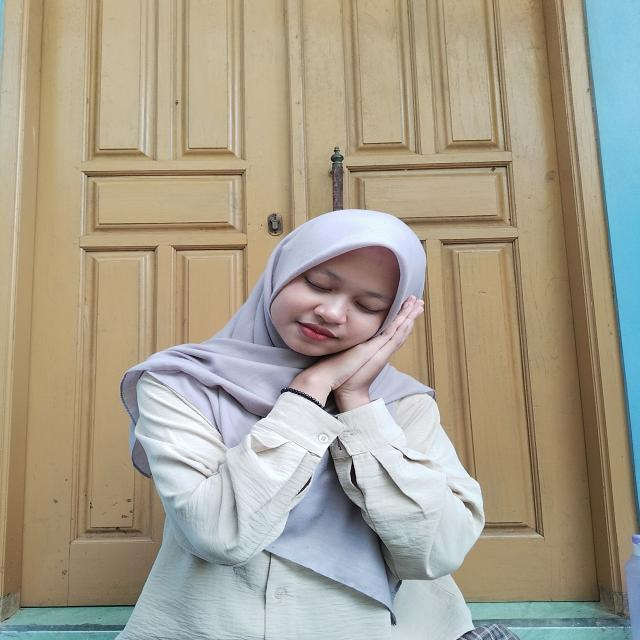tidur: (273, 298, 428, 434)
